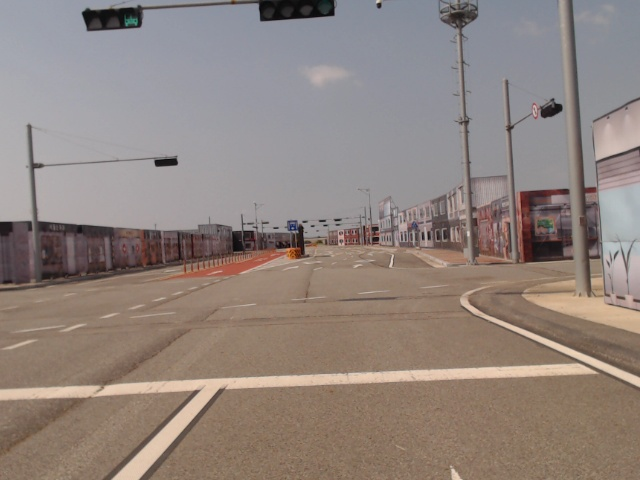straight_green_4: (256, 0, 335, 20)
